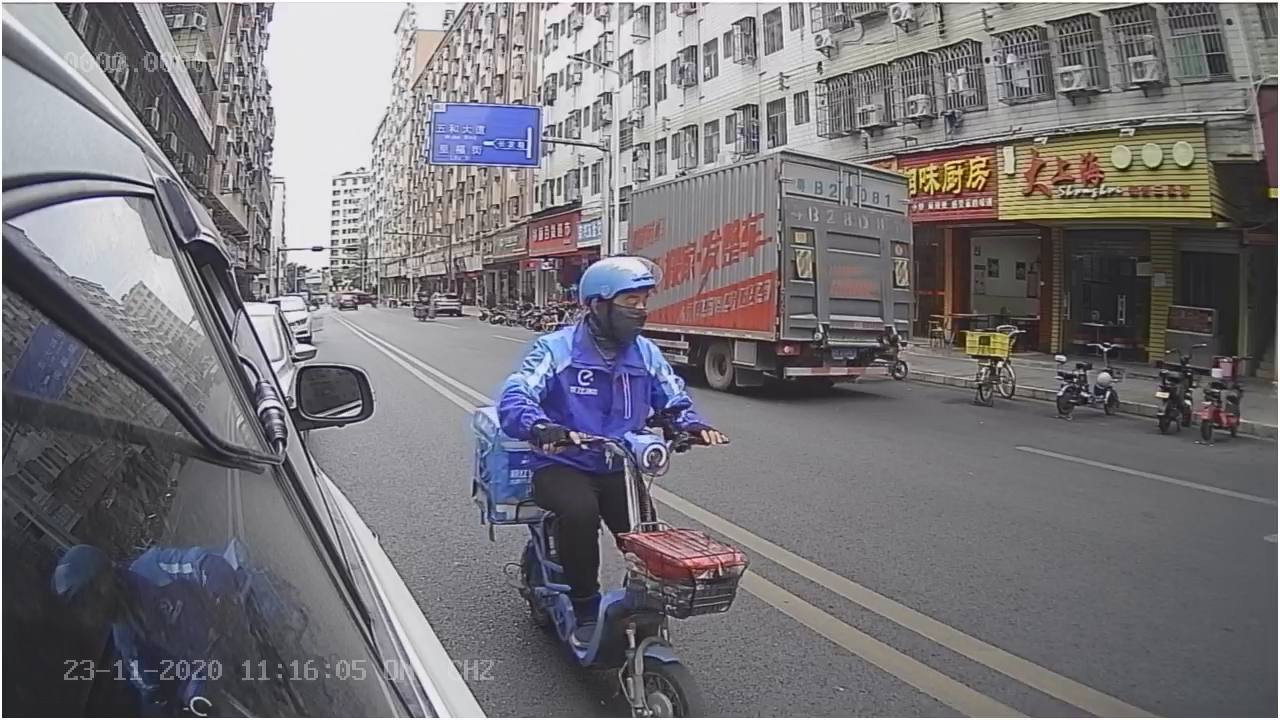person: (491, 252, 707, 420)
